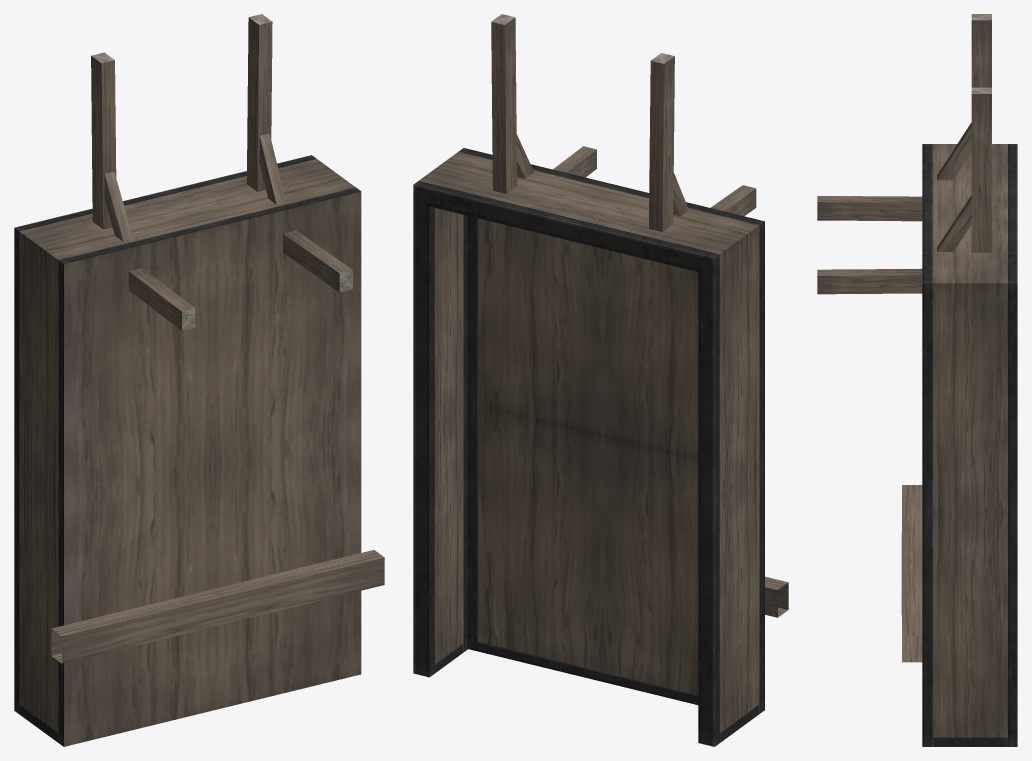
File: Cart_B.fbx
3 renders of one model, left to right at view 1: azimuth 30°, elevation 25°; view 2: azimuth 150°, elevation 25°; view 3: azimuth 270°, elevation 25°, orthographic. The views are drawn at different scales.
Visible parts, largest first — view 1: Cart_B; view 2: Cart_B; view 3: Cart_B.
Part boxes in pixels (x1,y1,x2,y2): Cart_B: (14,14,384,746); Cart_B: (413,14,788,746); Cart_B: (817,14,1017,746).
Bounding box in the file's own units: 3.5 × 6.73 × 1.96.
